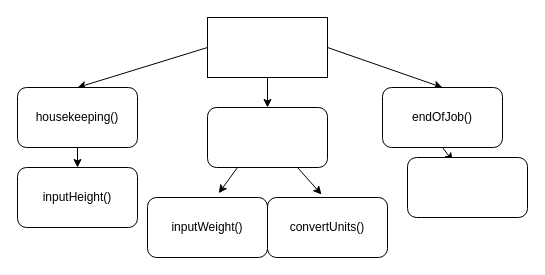
This 545x275 diagram has some shape labels left out. Each missing label, with the box of its shape:
detailLoop(): (206, 106, 328, 168)
exitDisplay(): (406, 156, 528, 218)
Main: (206, 16, 328, 78)
